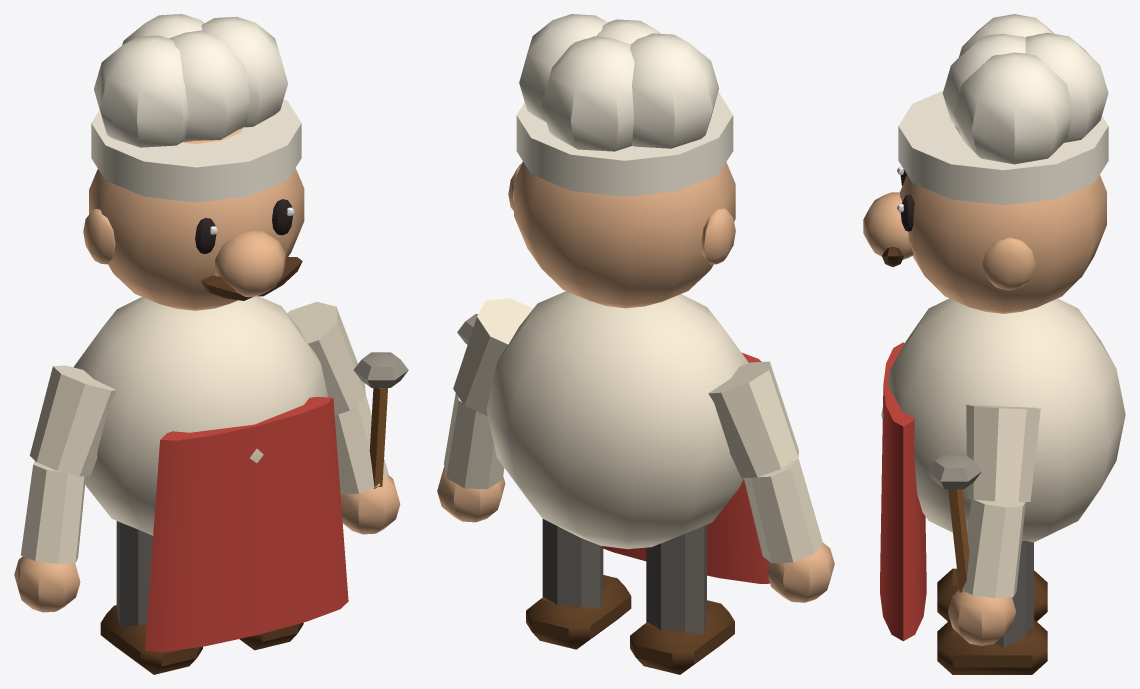
Rendered from CH_Staff_07_Asci.fbx.
3 views of the same model, side by side, from view 1: azimuth 30°, elevation 25°; view 2: azimuth 150°, elevation 25°; view 3: azimuth 270°, elevation 25° (orthographic). The views are drawn at different scales.
Visible parts, largest first — view 1: CH_Staff_07_Asci; view 2: CH_Staff_07_Asci; view 3: CH_Staff_07_Asci.
Boxes of the visible parts, bbox=[...] form: CH_Staff_07_Asci: bbox=[14, 14, 408, 674]; CH_Staff_07_Asci: bbox=[437, 14, 834, 674]; CH_Staff_07_Asci: bbox=[863, 14, 1125, 674].
Size of the model in its own units: 0.7912 by 1.2 by 0.4747.
Materials: 1 (1 with a texture image).
